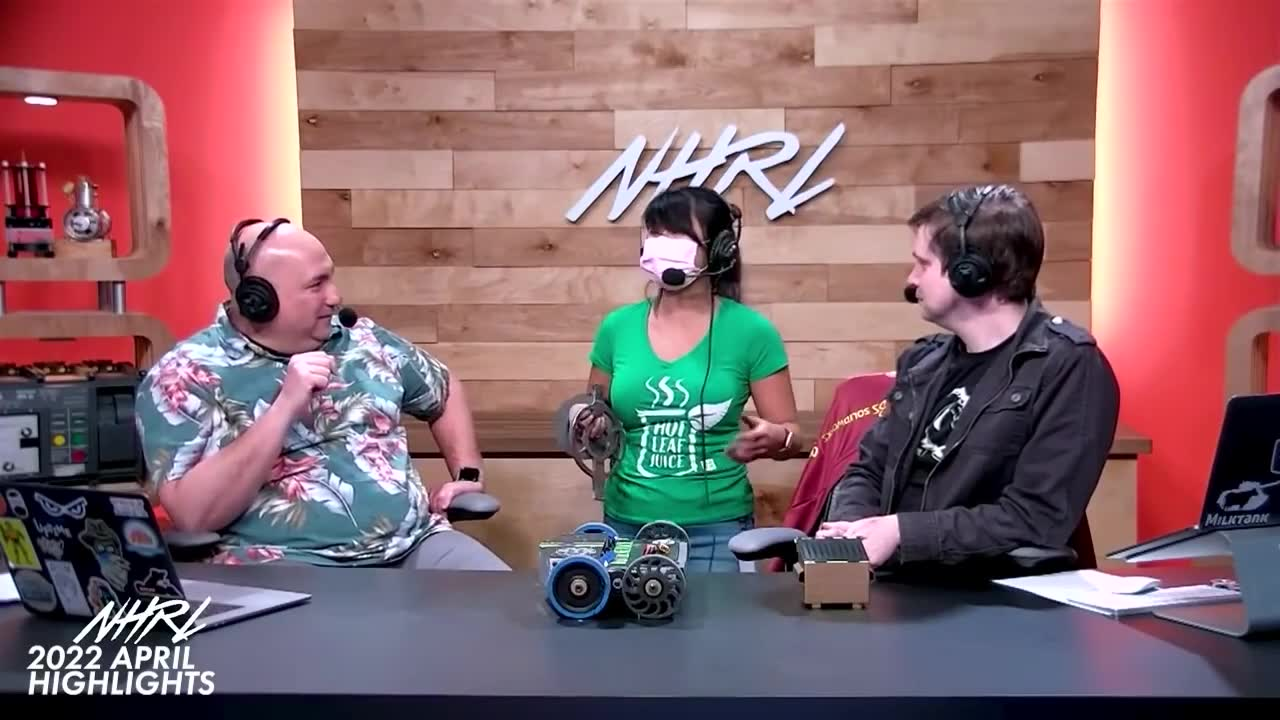combatbot: (538, 523, 687, 625)
